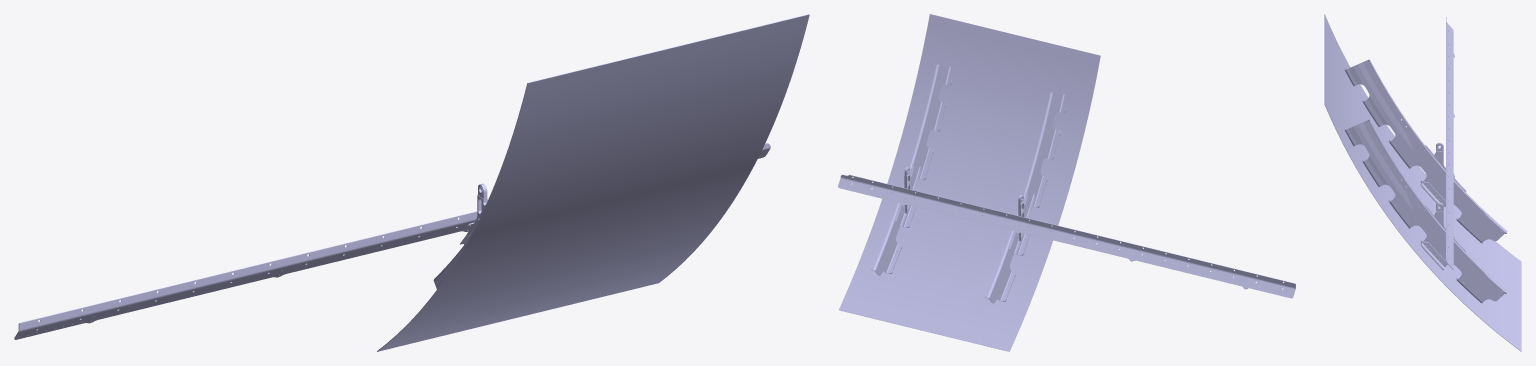
3 views of the same model, side by side, from view 1: azimuth 30°, elevation 25°; view 2: azimuth 150°, elevation 25°; view 3: azimuth 270°, elevation 25° (orthographic). The views are drawn at different scales.
Parts seen in each view (by area): view 1: Skin, Strap; view 2: Skin, Strap, Frame 1, Frame 2, Fitting 2, Fitting 1; view 3: Skin, Frame 2, Frame 1, Strap, Angle 2, Angle 1, Fitting 2, Fitting 1.
Boxes of the visible parts, left/top/right/bottom form: Skin: left=377, top=14, right=809, bottom=351; Strap: left=14, top=143, right=770, bottom=339; Skin: left=839, top=14, right=1100, bottom=351; Strap: left=838, top=174, right=1295, bottom=298; Frame 1: left=982, top=91, right=1068, bottom=303; Frame 2: left=868, top=63, right=954, bottom=275; Fitting 2: left=894, top=164, right=920, bottom=226; Fitting 1: left=1008, top=192, right=1034, bottom=254; Skin: left=1324, top=14, right=1521, bottom=351; Frame 2: left=1344, top=119, right=1507, bottom=303; Frame 1: left=1344, top=59, right=1507, bottom=243; Strap: left=1446, top=17, right=1454, bottom=269; Angle 2: left=1420, top=241, right=1445, bottom=269; Angle 1: left=1420, top=181, right=1445, bottom=209; Fitting 2: left=1425, top=202, right=1466, bottom=251; Fitting 1: left=1425, top=142, right=1466, bottom=191.
Bounding box in the file's own units: 61858 × 29836 × 21533.
